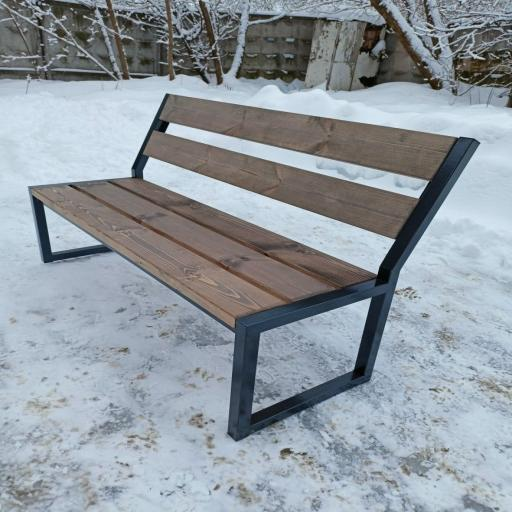trash_bin: (30, 95, 478, 440)
